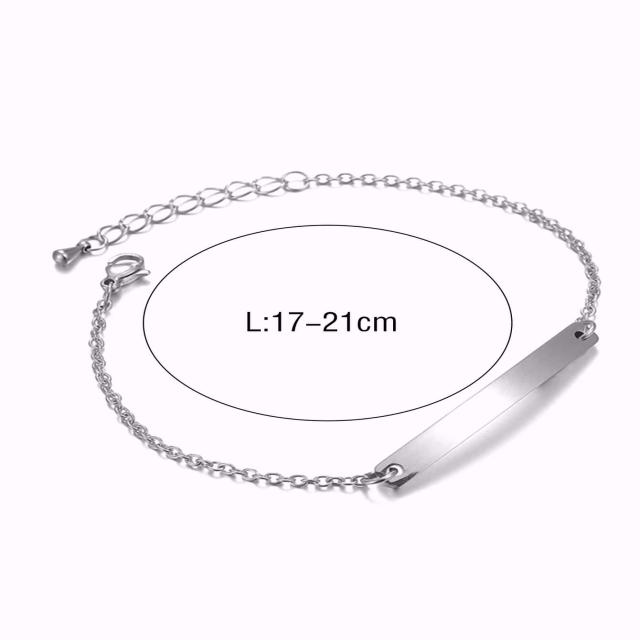bracelet: (0, 116, 640, 556)
